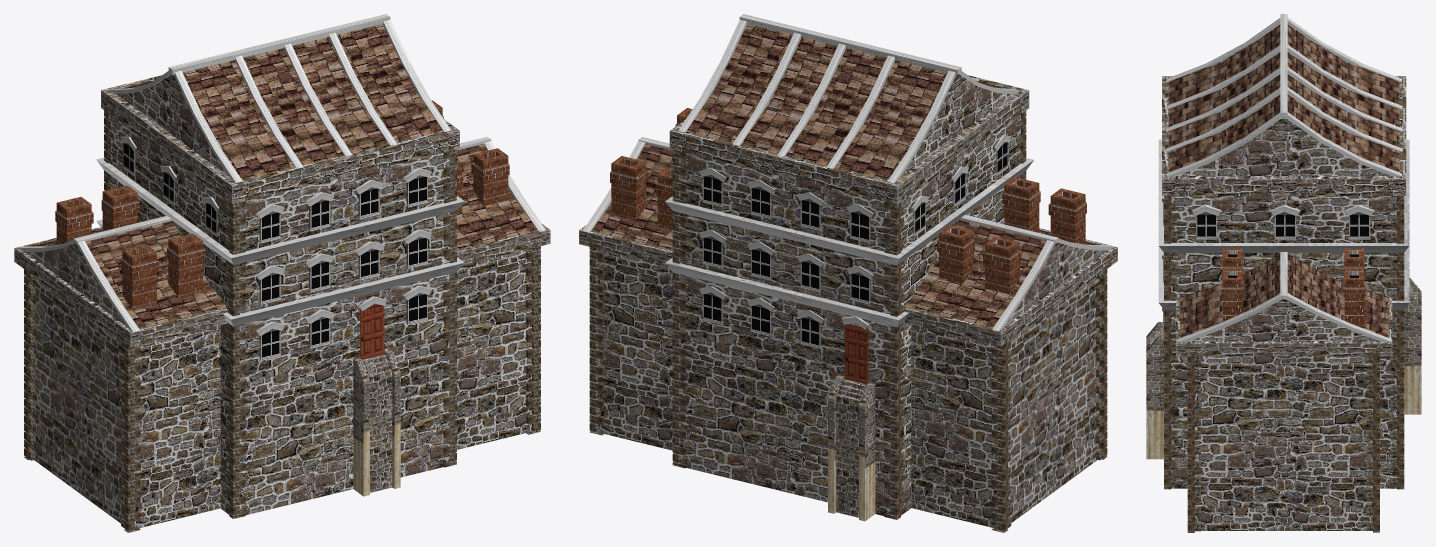
The model's file is brit_factory.dae.
3 views of the same model, side by side, from view 1: azimuth 30°, elevation 25°; view 2: azimuth 150°, elevation 25°; view 3: azimuth 270°, elevation 25° (orthographic). The views are drawn at different scales.
Parts seen in each view (by area): view 1: USAFactory; view 2: USAFactory; view 3: USAFactory.
Part boxes in pixels (left/top/right/bottom): USAFactory: left=14, top=14, right=550, bottom=532; USAFactory: left=579, top=14, right=1117, bottom=532; USAFactory: left=1146, top=14, right=1421, bottom=532.
Size of the model in its own units: 30.8 by 18.77 by 28.17.
